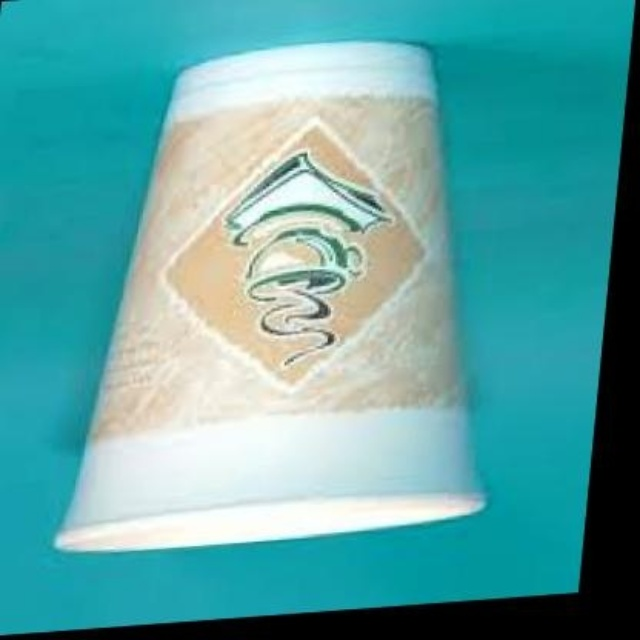trash: (57, 43, 483, 549)
